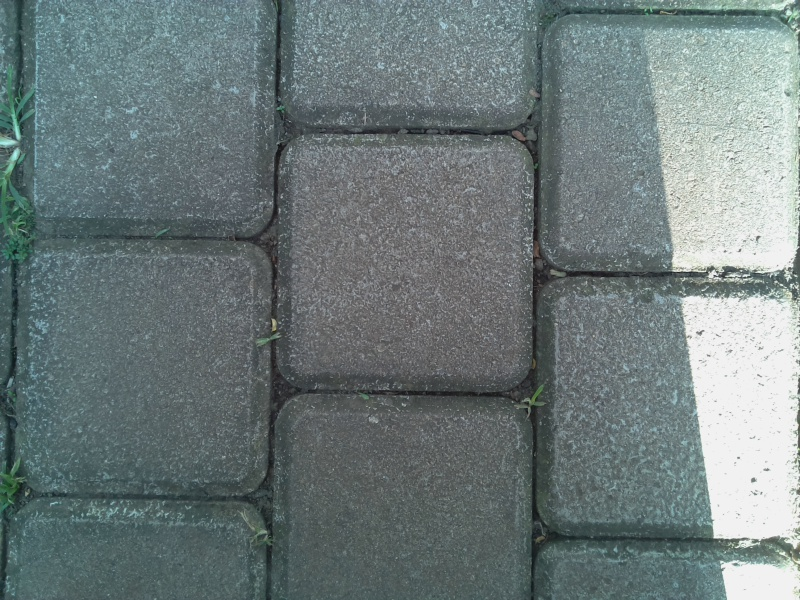Weed: (1, 64, 36, 176), (1, 185, 40, 276), (1, 456, 28, 517), (238, 512, 279, 552), (516, 380, 551, 420), (253, 326, 286, 352), (273, 100, 292, 120)
